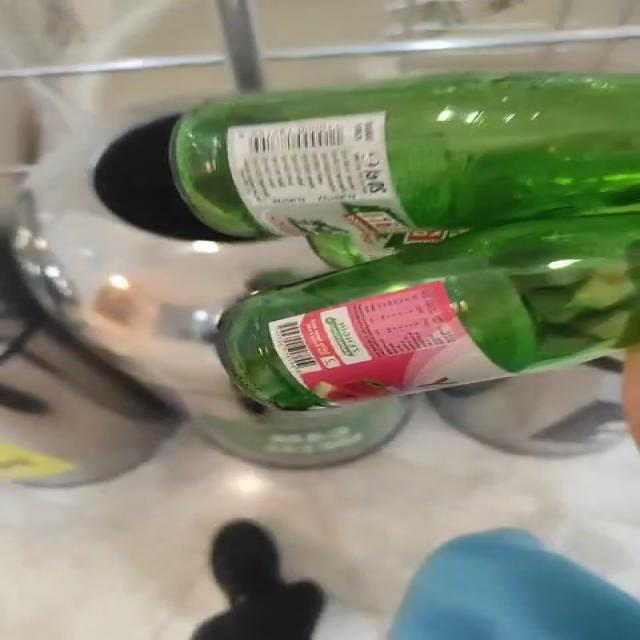Glass: (171, 72, 637, 411)
